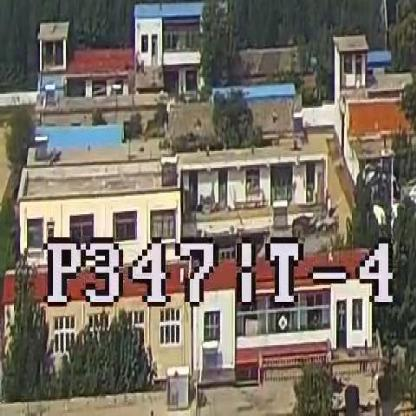other: (13, 246, 376, 302), (342, 95, 411, 140), (69, 31, 128, 82)
